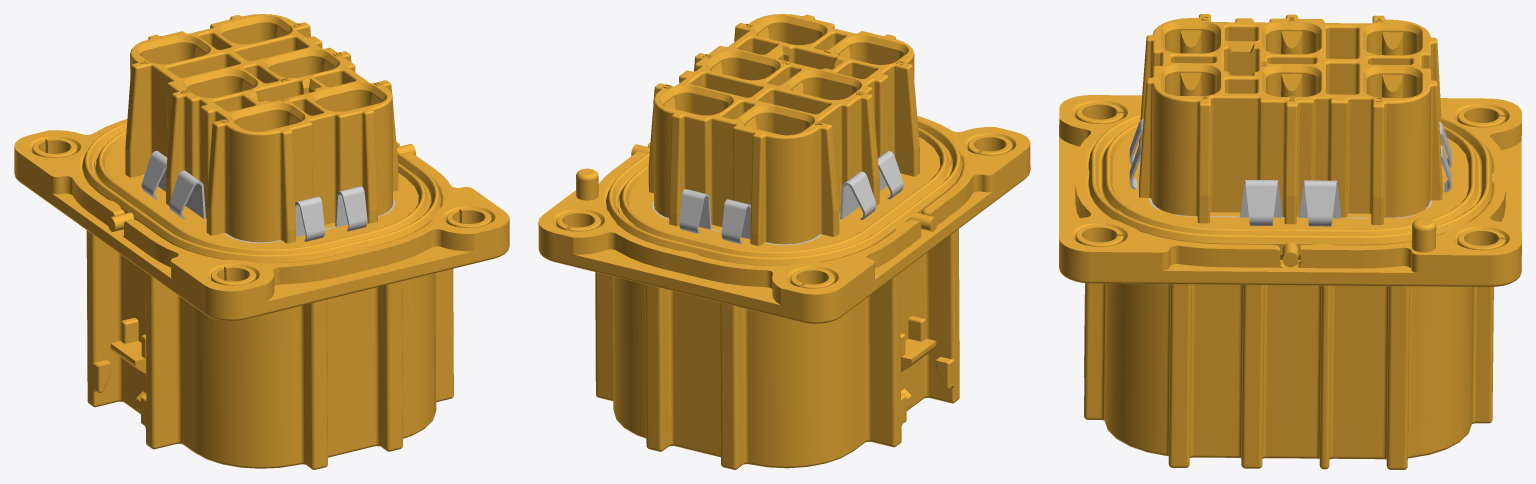
Rendered from EVH2-N6ZJ-RA v1.glb.
3 renders of one model, left to right at view 1: azimuth 30°, elevation 25°; view 2: azimuth 150°, elevation 25°; view 3: azimuth 270°, elevation 25°, orthographic. The views are drawn at different scales.
Visible parts, largest first — view 1: EVH2-N6ZJ-RA v1; view 2: EVH2-N6ZJ-RA v1; view 3: EVH2-N6ZJ-RA v1.
Boxes of the visible parts, x1=… form: EVH2-N6ZJ-RA v1: x1=14, y1=14, x2=509, y2=469; EVH2-N6ZJ-RA v1: x1=538, y1=14, x2=1030, y2=469; EVH2-N6ZJ-RA v1: x1=1059, y1=14, x2=1521, y2=469.
Bounding box in the file's own units: 4.6 × 4.69 × 5.73.
